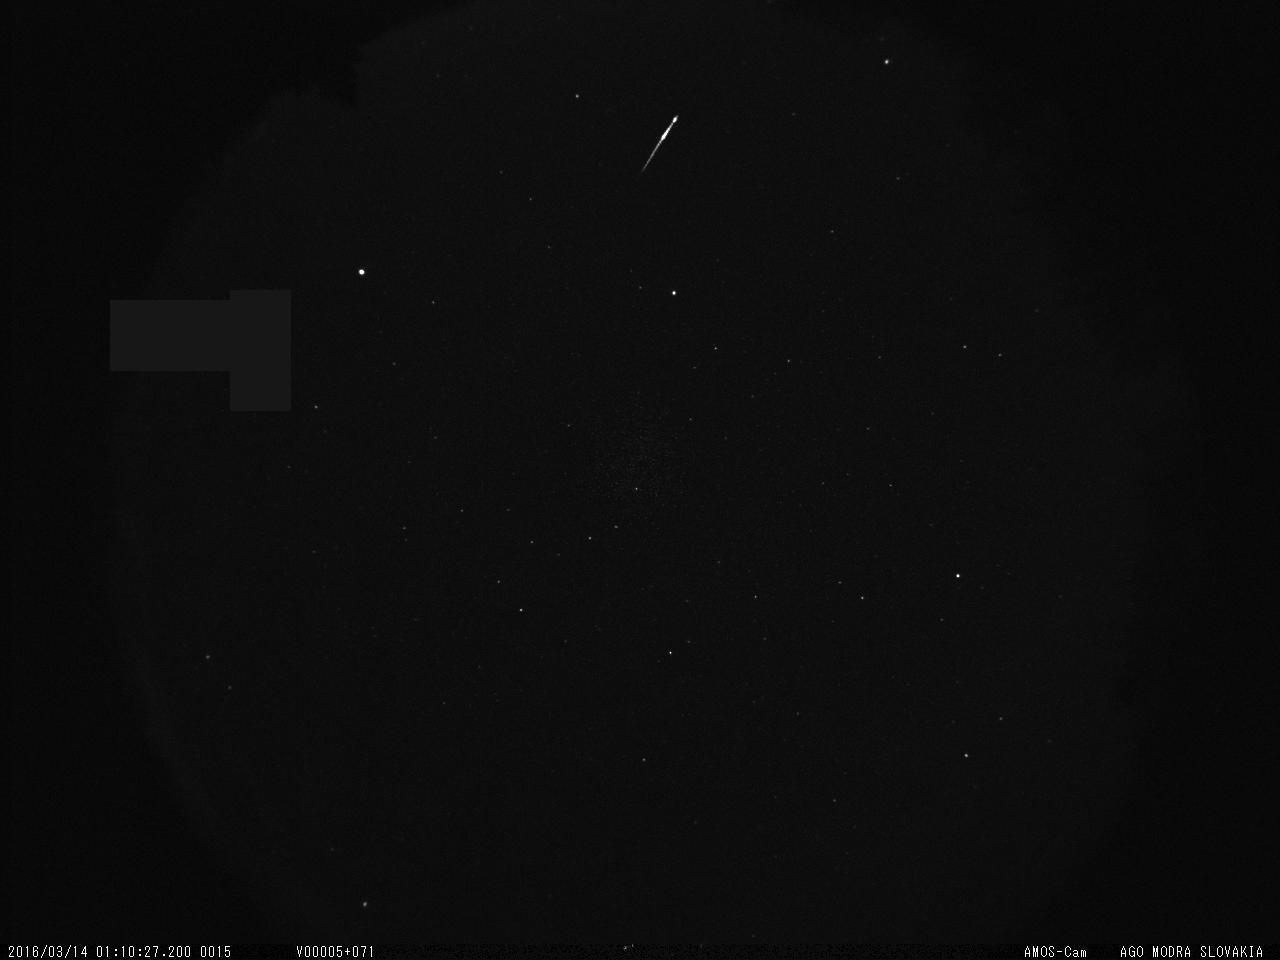meteor: (640, 108, 685, 176)
